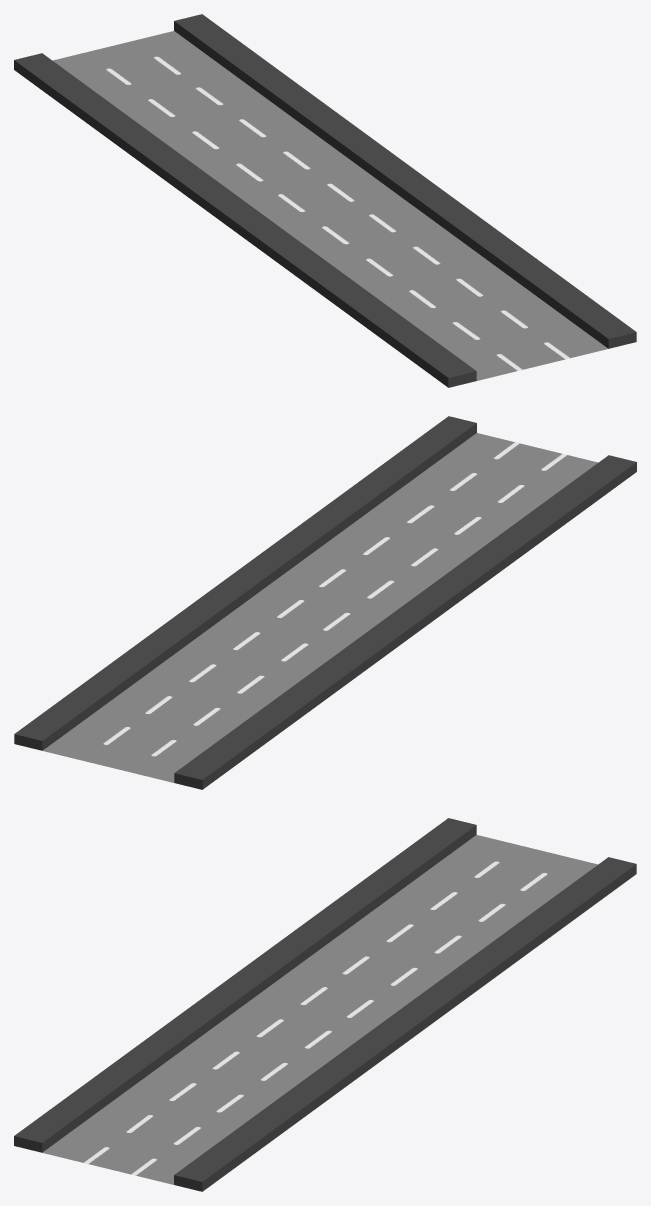
File: road.fbx
3 views of the same model, one above another, from view 1: azimuth 30°, elevation 25°; view 2: azimuth 150°, elevation 25°; view 3: azimuth 330°, elevation 25° (orthographic).
Parts seen in each view (by area): view 1: pPlane1, pCube1, pCube2; view 2: pPlane1, pCube1, pCube2; view 3: pPlane1, pCube2, pCube1.
Boxes of the visible parts, <box> form: pPlane1: <box>52,31,629,384</box>; pCube1: <box>14,53,476,387</box>; pCube2: <box>174,14,636,348</box>; pPlane1: <box>21,433,598,786</box>; pCube1: <box>174,455,636,789</box>; pCube2: <box>14,416,476,750</box>; pPlane1: <box>42,835,636,1191</box>; pCube2: <box>174,857,636,1191</box>; pCube1: <box>14,818,476,1152</box>.
Size of the model in its own units: 5.01 by 0.2522 by 20.
2 materials, 1 textured.
